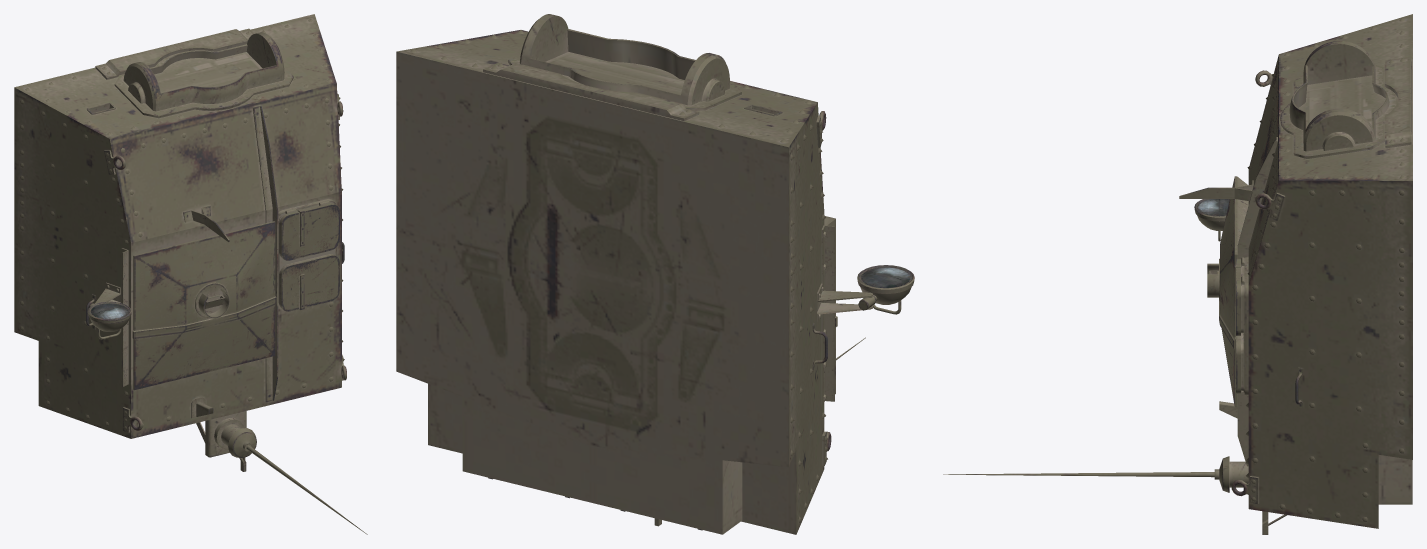
The model's file is Turret_01.glb.
3 views of the same model, side by side, from view 1: azimuth 30°, elevation 25°; view 2: azimuth 150°, elevation 25°; view 3: azimuth 270°, elevation 25° (orthographic). The views are drawn at different scales.
Visible parts, largest first — view 1: set_0_group_0; view 2: set_0_group_0; view 3: set_0_group_0.
Boxes of the visible parts, bbox=[...] form: set_0_group_0: bbox=[14, 14, 367, 534]; set_0_group_0: bbox=[396, 14, 914, 534]; set_0_group_0: bbox=[943, 14, 1412, 534].
Bounding box in the file's own units: 1.82 × 2.25 × 2.11.
1 material, 1 textured.
